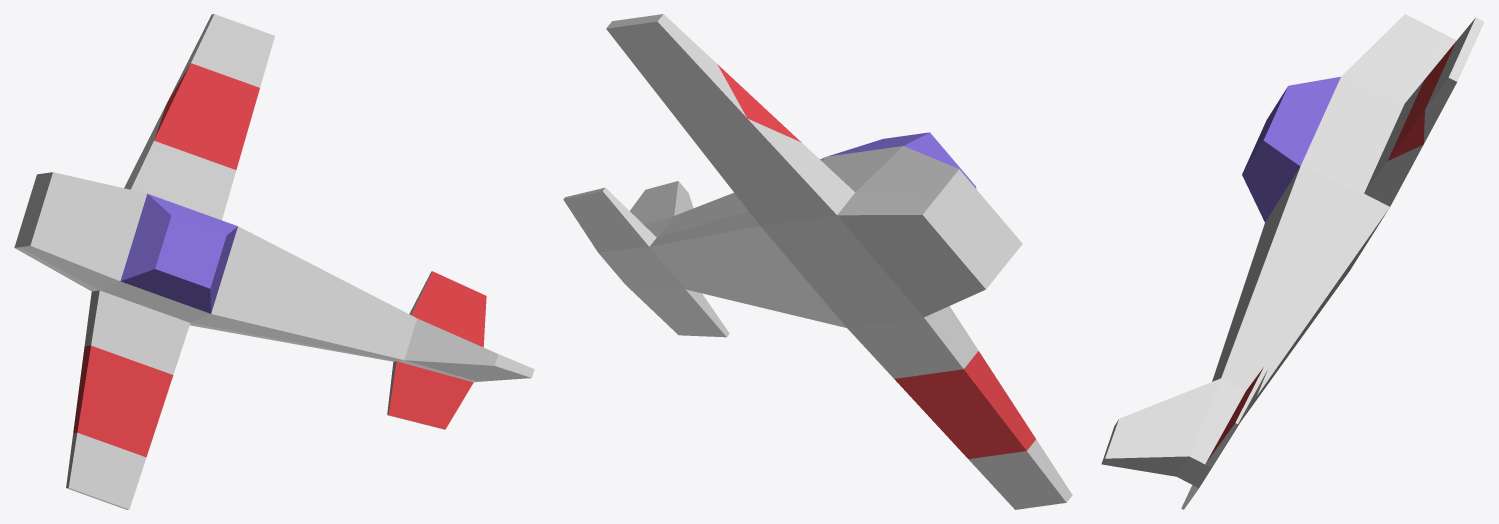
3 renders of one model, left to right at view 1: azimuth 30°, elevation 25°; view 2: azimuth 150°, elevation 25°; view 3: azimuth 270°, elevation 25°, orthographic. The views are drawn at different scales.
Parts seen in each view (by area): view 1: Plane.002; view 2: Plane.002; view 3: Plane.002.
Part boxes in pixels (bbox=[...]): Plane.002: bbox=[14, 14, 534, 509]; Plane.002: bbox=[563, 14, 1072, 509]; Plane.002: bbox=[1101, 14, 1484, 509].
Size of the model in its own units: 152 by 142 by 105.
